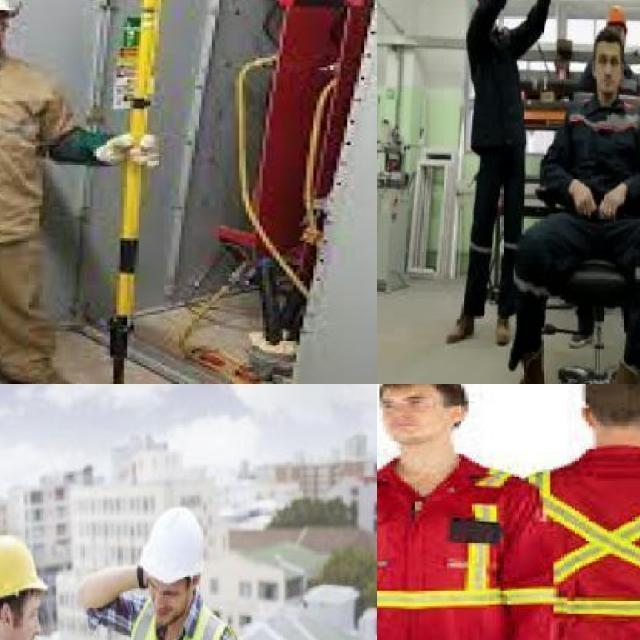apron: (97, 130, 165, 176)
